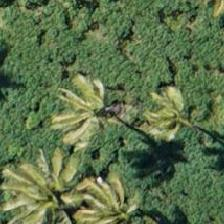coconut_tree: (53, 67, 143, 157), (123, 73, 213, 163), (2, 149, 92, 223), (80, 174, 170, 223)
